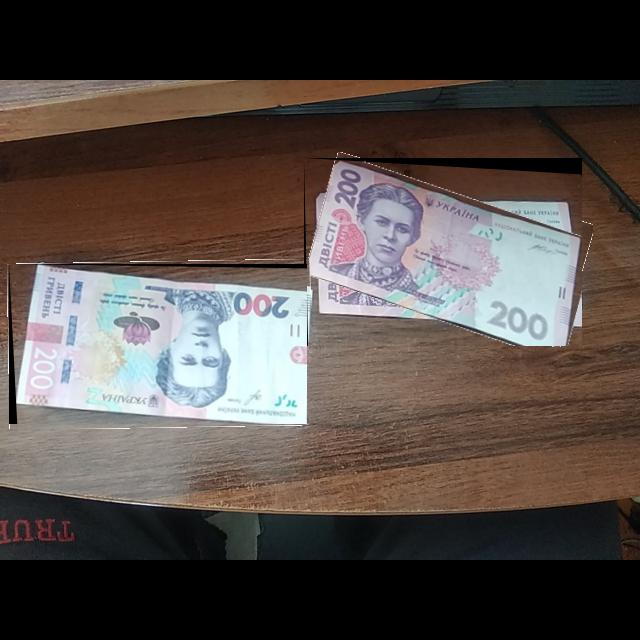200uah: (306, 160, 583, 347), (15, 265, 308, 425)
